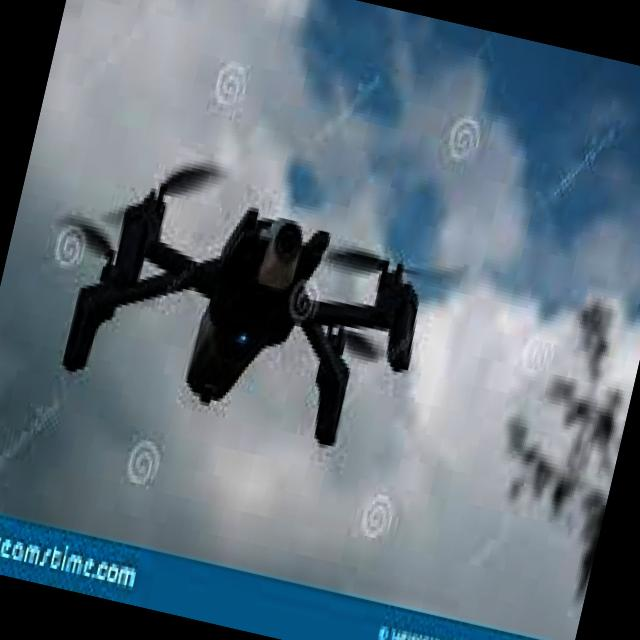drone: (24, 136, 460, 492)
